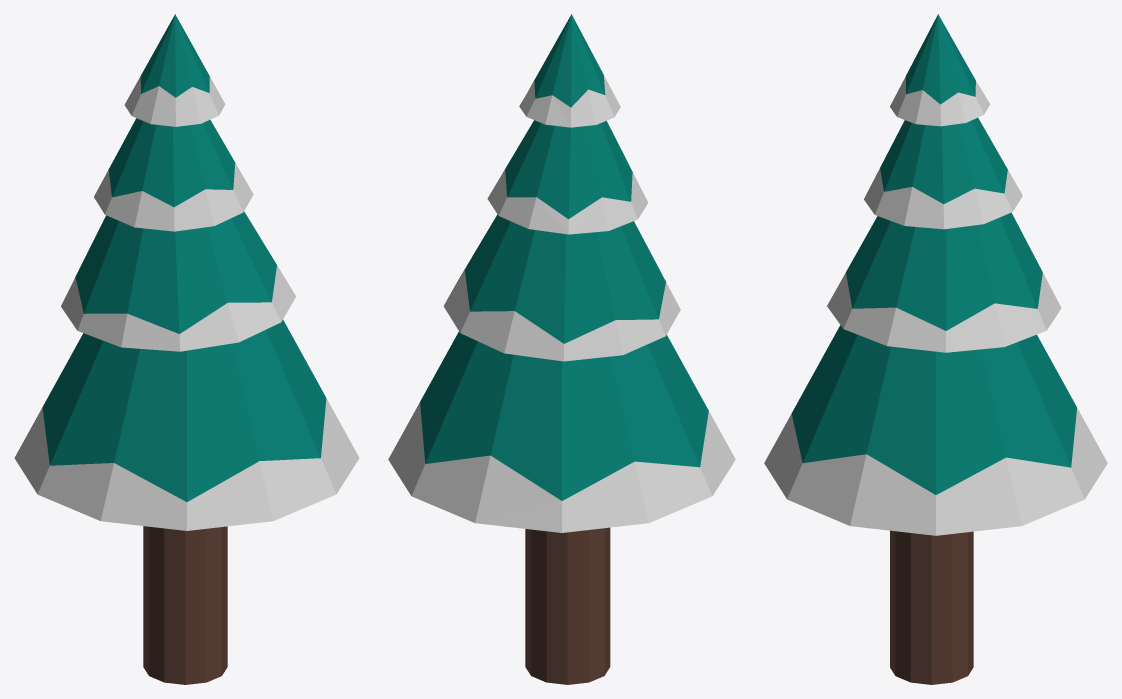
3 renders of one model, left to right at view 1: azimuth 30°, elevation 25°; view 2: azimuth 150°, elevation 25°; view 3: azimuth 270°, elevation 25°, orthographic.
Visible parts, largest first — view 1: node_MeshObject344227712-PolyPaper11; view 2: node_MeshObject344227712-PolyPaper11; view 3: node_MeshObject344227712-PolyPaper11.
Part boxes in pixels (box(x1,y1,x2,y2)): node_MeshObject344227712-PolyPaper11: box(14, 14, 359, 684); node_MeshObject344227712-PolyPaper11: box(388, 14, 735, 684); node_MeshObject344227712-PolyPaper11: box(764, 14, 1107, 684).
Size of the model in its own units: 0.8406 by 1.75 by 0.8406.
